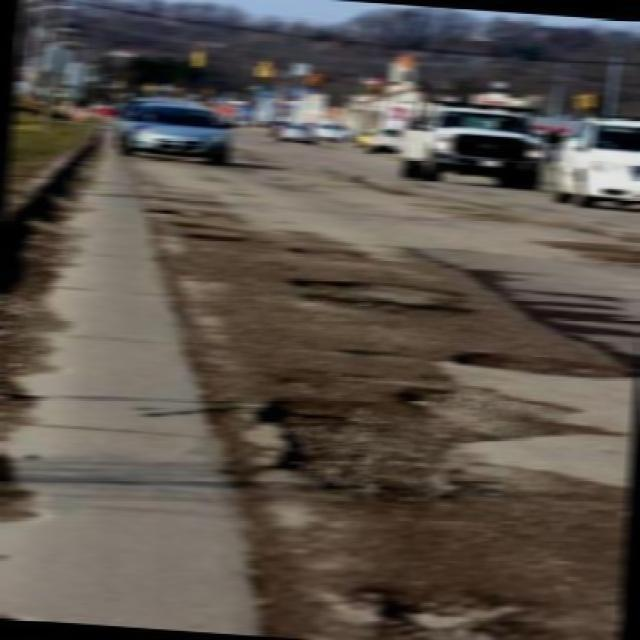Pothole: (250, 386, 456, 510), (396, 370, 598, 456), (270, 265, 476, 339), (336, 572, 528, 640), (452, 343, 618, 389), (137, 203, 250, 246), (281, 236, 375, 265)
